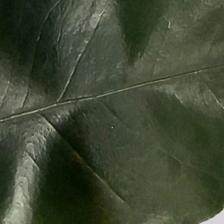healthy: (0, 6, 224, 206)
